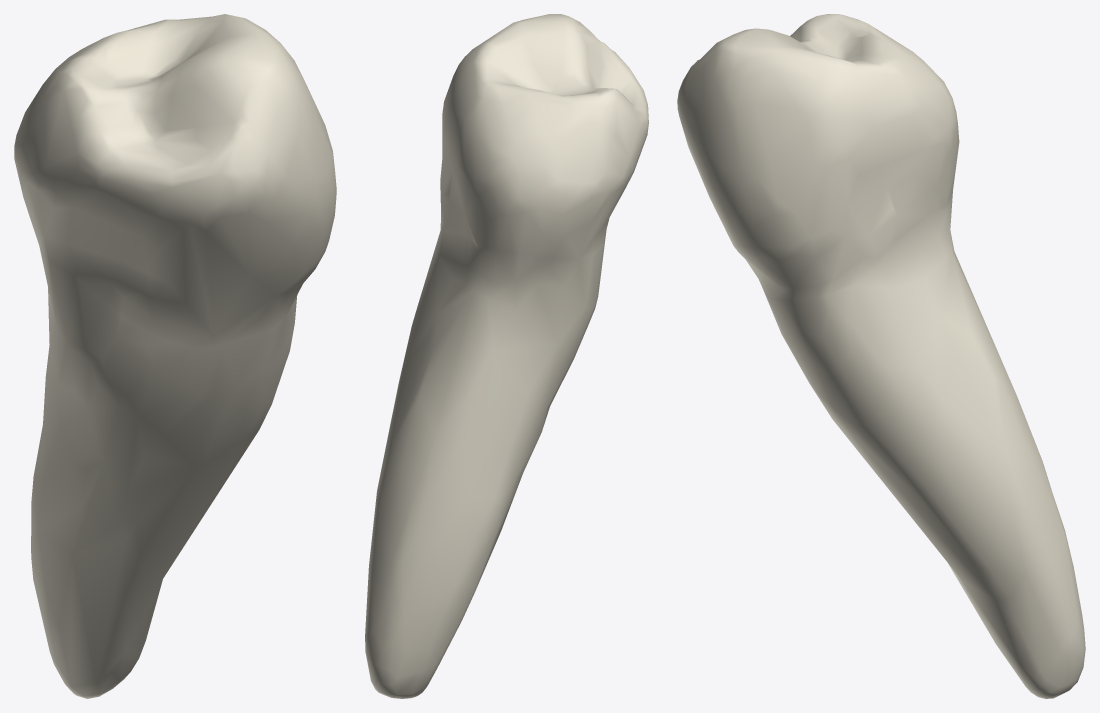
3 views of the same model, side by side, from view 1: azimuth 30°, elevation 25°; view 2: azimuth 150°, elevation 25°; view 3: azimuth 270°, elevation 25° (orthographic). The views are drawn at different scales.
Visible parts, largest first — view 1: ZA_31d490cc3e6e9287; view 2: ZA_31d490cc3e6e9287; view 3: ZA_31d490cc3e6e9287.
Part boxes in pixels (x1,y1,x2,y2): ZA_31d490cc3e6e9287: (14, 14, 336, 698); ZA_31d490cc3e6e9287: (365, 14, 648, 698); ZA_31d490cc3e6e9287: (677, 14, 1085, 698).
Bounding box in the file's own units: 0.00795 × 0.0228 × 0.013.
